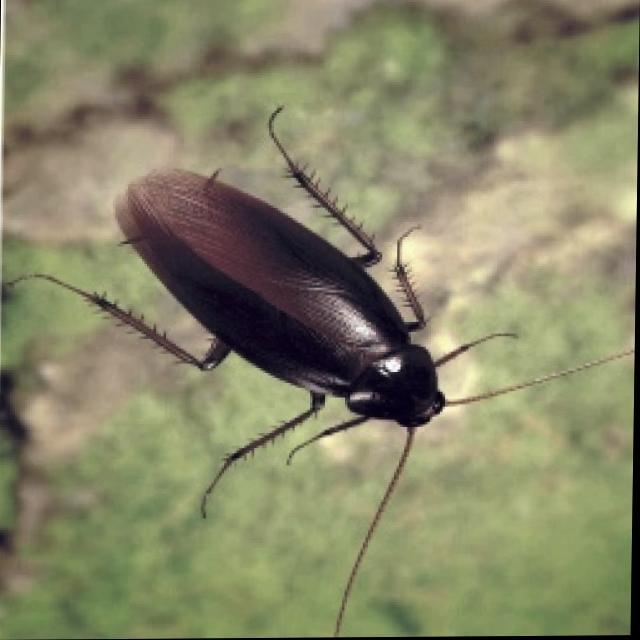cockroach: (9, 100, 634, 635)
